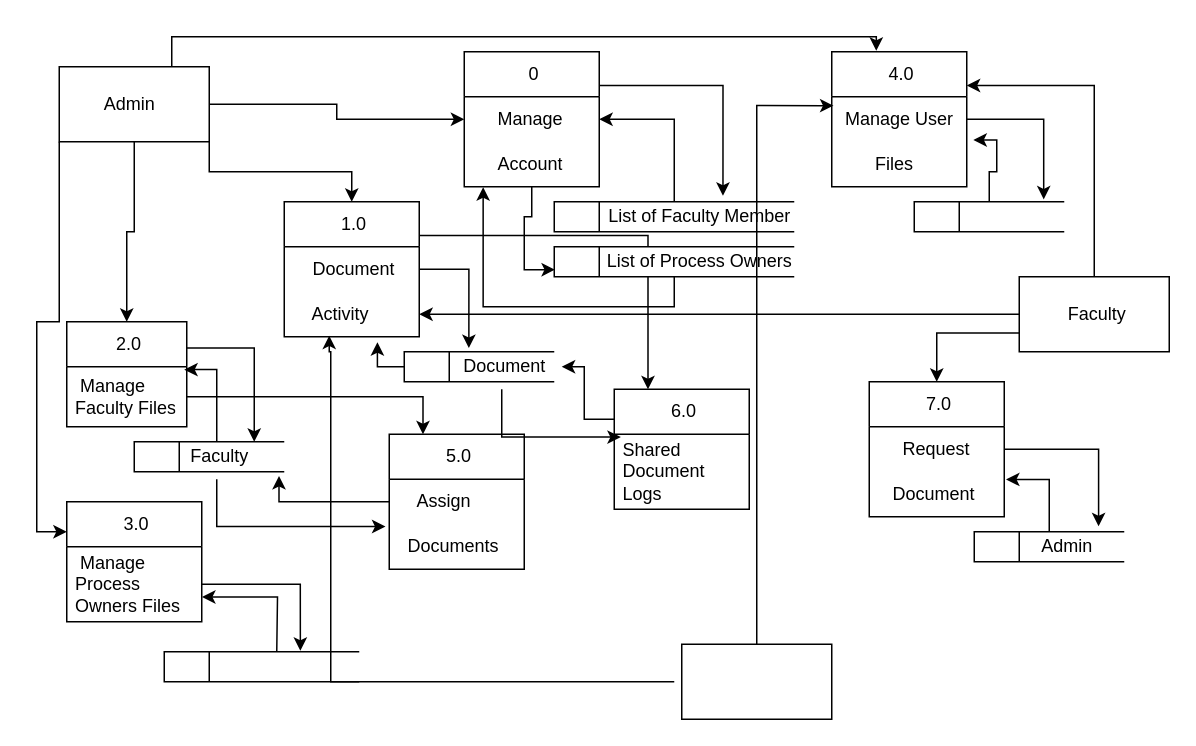
Some shapes in this 1196 by 746 pixel diagram are drawn without their labels. Each missing label, with the centre of its shape:
"Process Owner" goes at pixel 261 666.
"Process Owners" goes at pixel 756 681.
"User" goes at pixel 988 216.
